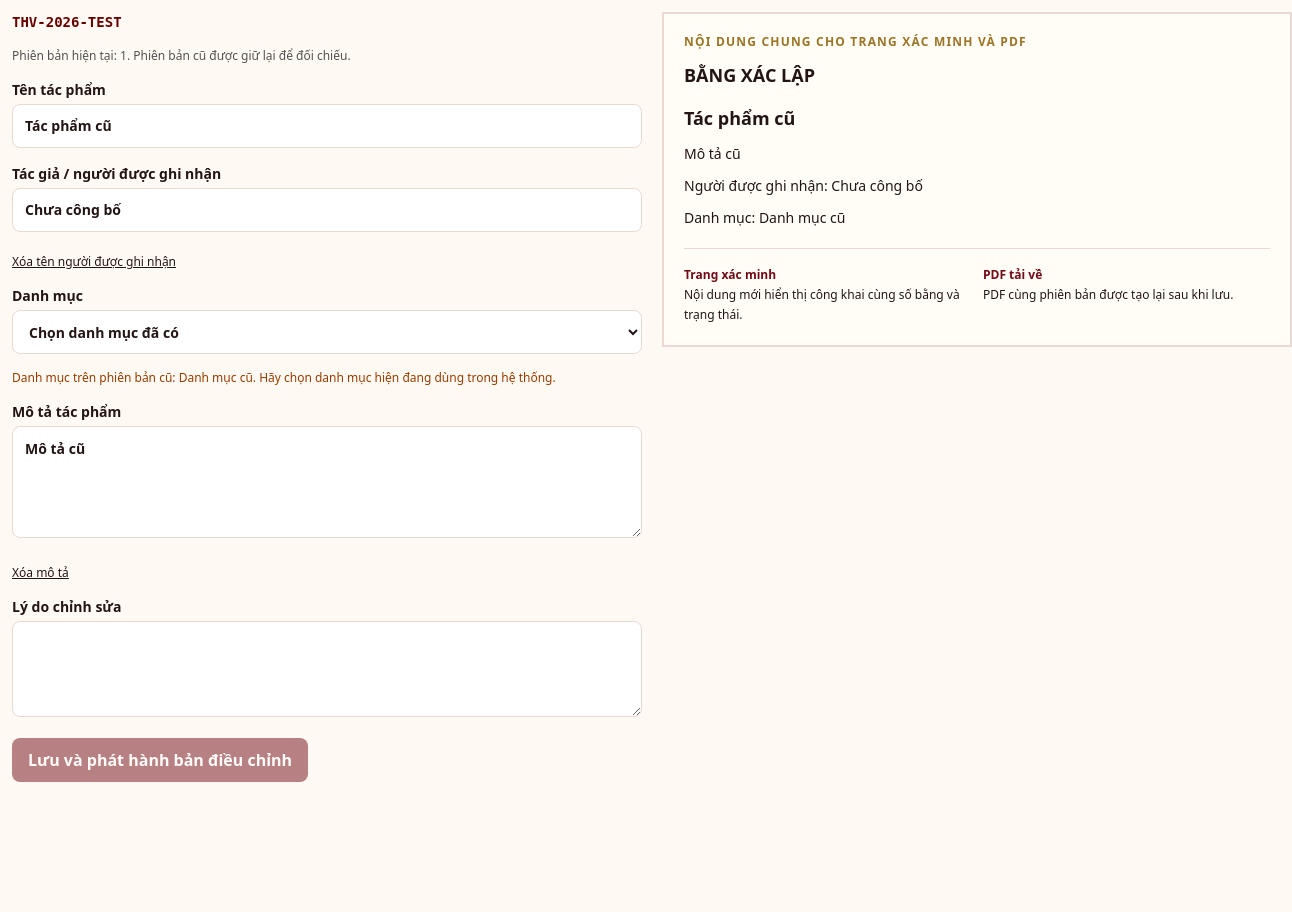
Test: submits edited content for a new version while previewing removals
Click the button "Xóa tên người được ghi nhận".
click(94, 262)  # box [12,254,176,270]
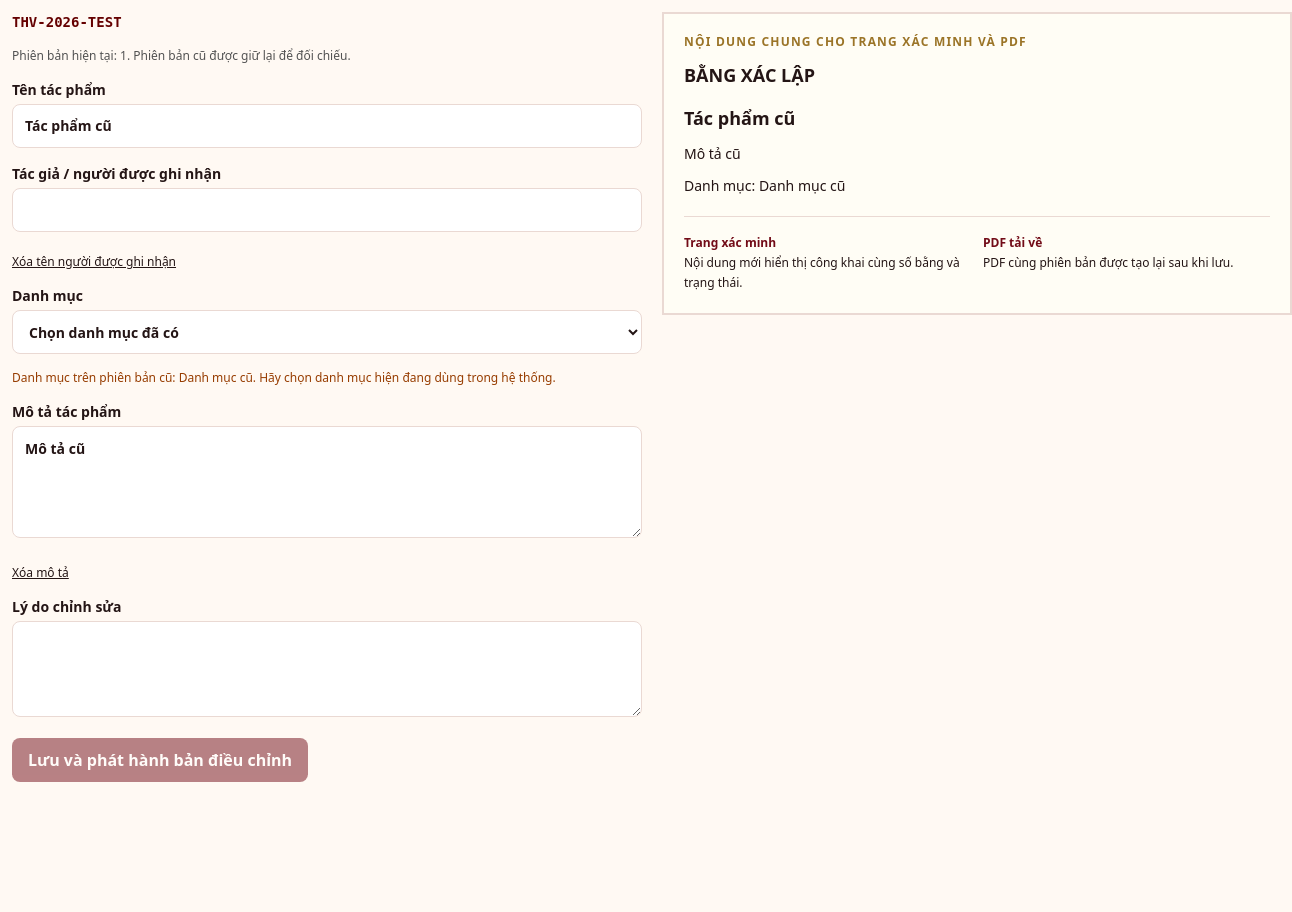
Type "Sửa nội dung tác giả trên bằng xác lập cũ." into the text box labelled "Lý do chỉnh sửa".
click(327, 669); type("Sửa nội dung tác giả trên bằng xác lập cũ.")  # box [12,621,642,717]
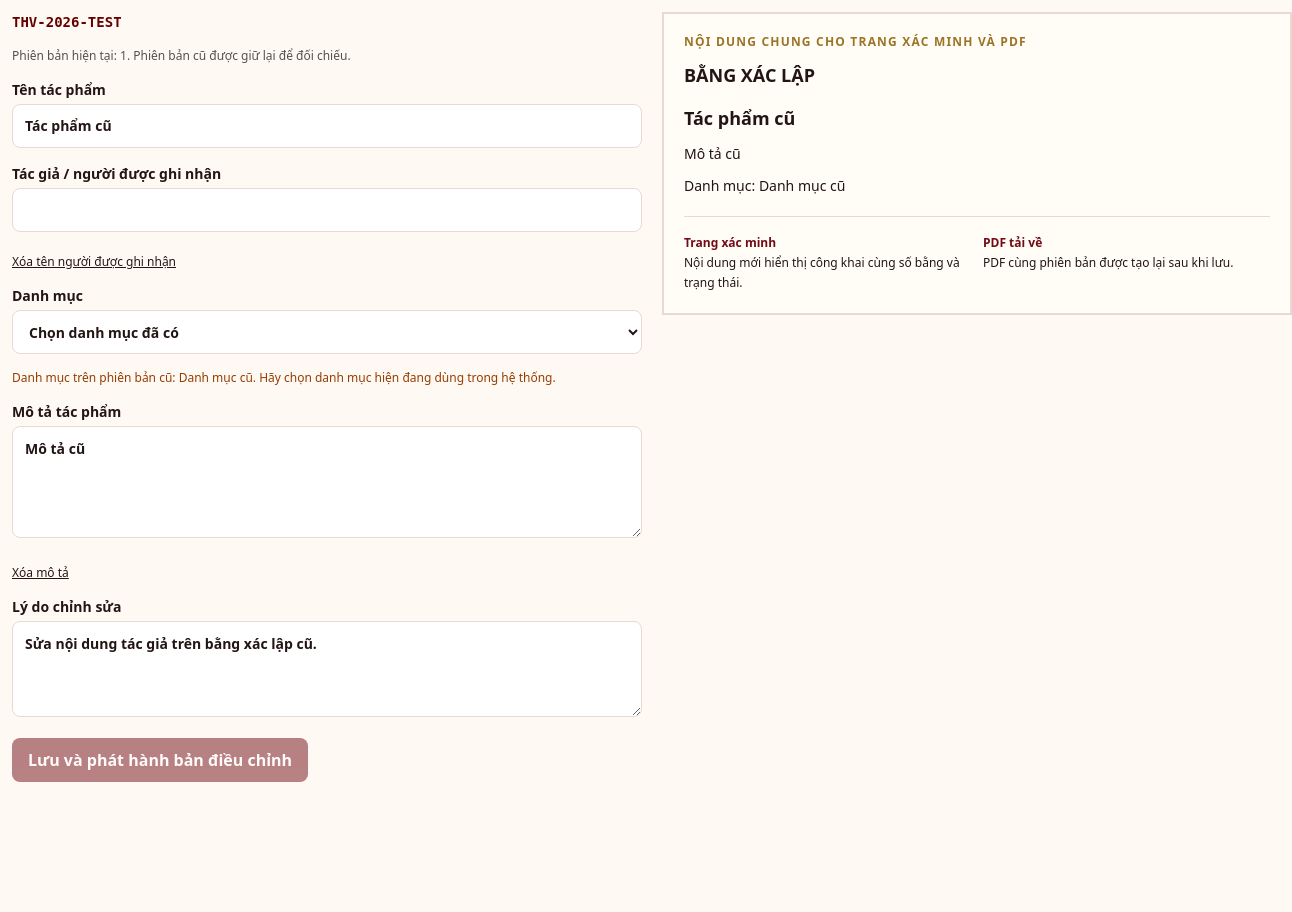
Expected: the button "Lưu và phát hành bản điều chỉnh" is disabled, [12,738,308,782]
Select "Certificate" in the dropdown labelled "Danh mục" at (327, 332), box [12,310,642,354]
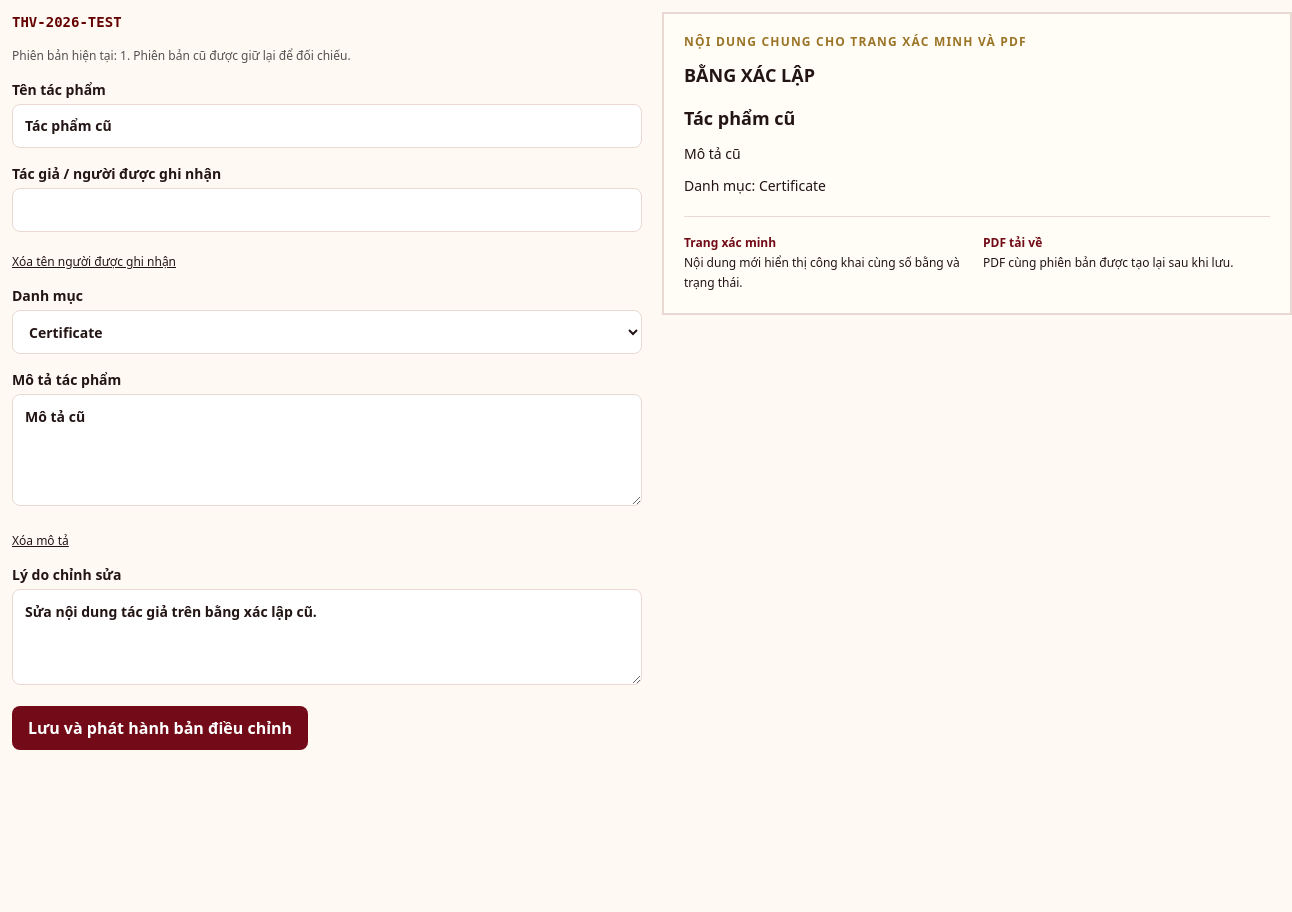
Expected: the text labelled "Xem trước nội dung phiên bản mới" does not show "Chưa công bố"
Click the button "Lưu và phát hành bản điều chỉnh".
click(160, 728)  # box [12,706,308,750]
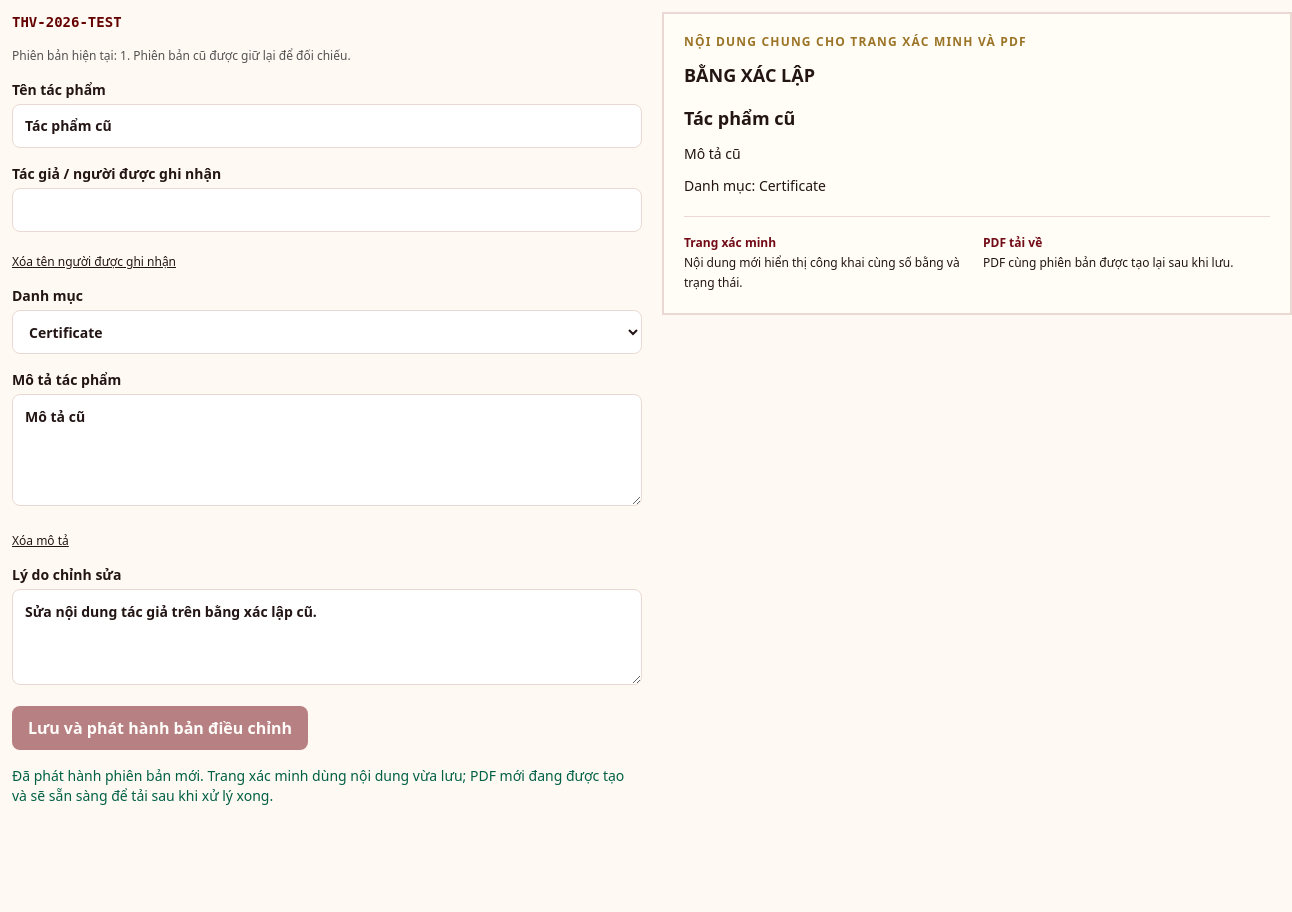
Expected: the text "Đã phát hành phiên bản mới" is shown, [12,766,624,805]
